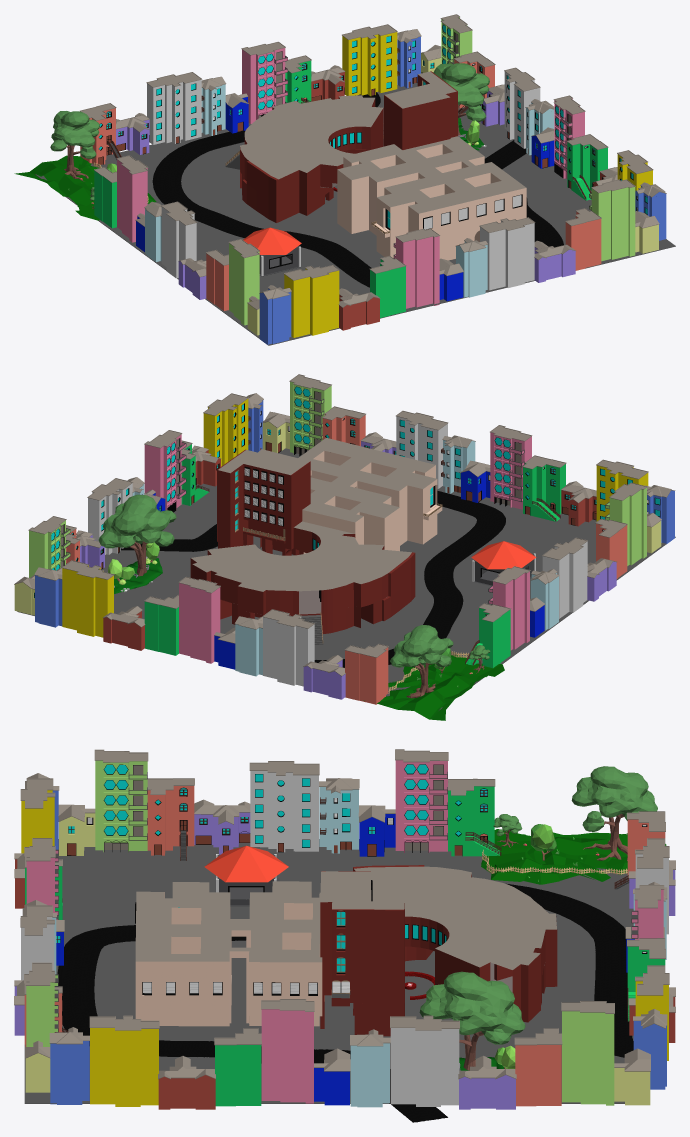
Rendered from Plazoleta.glb.
3 renders of one model, top to bottom at view 1: azimuth 30°, elevation 25°; view 2: azimuth 150°, elevation 25°; view 3: azimuth 270°, elevation 25°, orthographic. The views are drawn at different scales.
Parts seen in each view (by area): view 1: Piso, Salones, TechoAudi, TechoSalon, camino1, Auditorios, Edificio5.007, Edificio5.006, Edificio, Edificio5.003, Edificio5.002, Edificio2.002 (+40 smaller); view 2: Piso, Auditorios, TechoAudi, Edificio, Salones, TechoSalon, camino1, cesped2, Edificio5.007, Edificio5.006, Arbol1, Edificio2.007 (+42 smaller); view 3: Piso, Salones, TechoAudi, camino1, TechoSalon, Edificio, Edificio5, Edificio5.001, Edificio5.004, Auditorios, Edificio2, Edificio2.001 (+40 smaller).
Boxes of the visible parts, <box> form: Piso: <box>34,82,675,345</box>; Salones: <box>337,144,526,260</box>; TechoAudi: <box>240,95,382,179</box>; TechoSalon: <box>337,136,526,213</box>; camino1: <box>152,92,563,287</box>; Auditorios: <box>225,95,383,222</box>; Edificio5.007: <box>342,24,397,96</box>; Edificio5.006: <box>146,72,202,144</box>; Edificio: <box>384,71,457,149</box>; Edificio5.003: <box>284,265,339,337</box>; Edificio5.002: <box>479,217,535,290</box>; Edificio2.002: <box>589,179,635,261</box>; Piso: <box>17,448,675,710</box>; Auditorios: <box>189,528,415,644</box>; TechoAudi: <box>191,521,411,591</box>; Edificio: <box>217,449,310,555</box>; Salones: <box>302,450,442,553</box>; TechoSalon: <box>298,438,436,522</box>; camino1: <box>121,490,505,667</box>; cesped2: <box>363,655,504,720</box>; Edificio5.007: <box>62,560,114,637</box>; Edificio5.006: <box>262,609,314,686</box>; Arbol1: <box>98,494,176,576</box>; Edificio2.007: <box>178,577,220,663</box>; Piso: <box>24,839,633,1103</box>; Salones: <box>135,892,324,1026</box>; TechoAudi: <box>354,866,556,969</box>; camino1: <box>57,883,633,1122</box>; TechoSalon: <box>135,881,322,962</box>; Edificio: <box>320,871,404,1036</box>; Edificio5: <box>390,1015,459,1106</box>; Edificio5.001: <box>89,1015,159,1106</box>; Edificio5.004: <box>249,761,319,852</box>; Auditorios: <box>353,865,557,1022</box>; Edificio2: <box>561,1001,614,1105</box>; Edificio2.001: <box>261,999,314,1103</box>.
Bounding box in the file's own units: 111 × 24.92 × 106.
Materials: 79 (1 with a texture image).
